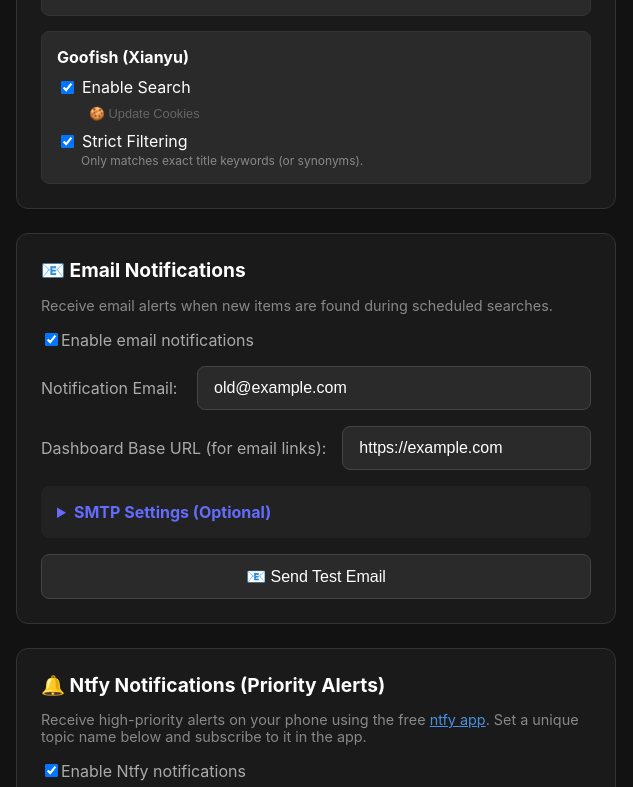
Test case: notification settings saving › shows rejected saves and does not send a test using old settings
This screenshot has width=633, height=787.
(page scrolled)
Replace the text in the field showing "old@example.com" next to "Notification Email:" with "new@example.com". click: (394, 388)
box: [197,366,591,410]
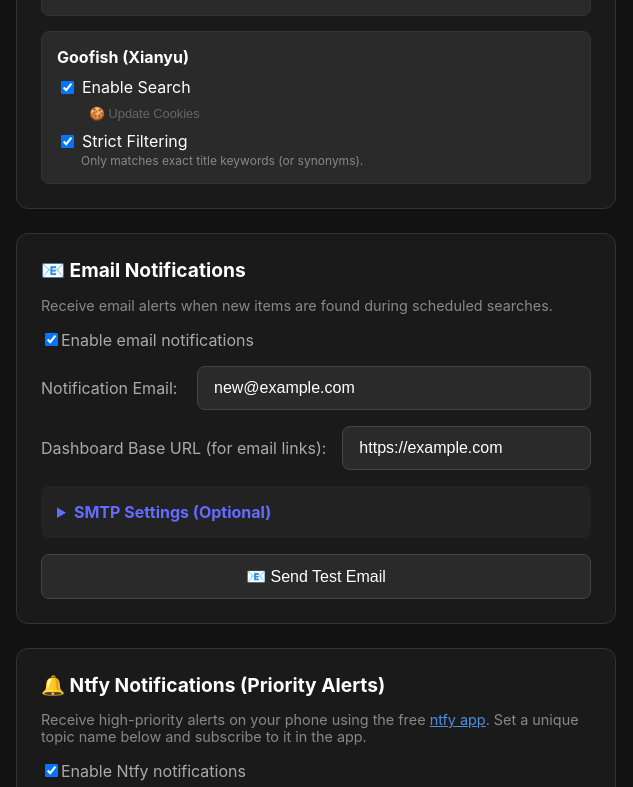
Click the button "📧 Send Test Email". click: click(316, 576)
box: [41,554,591,599]
(page scrolled)
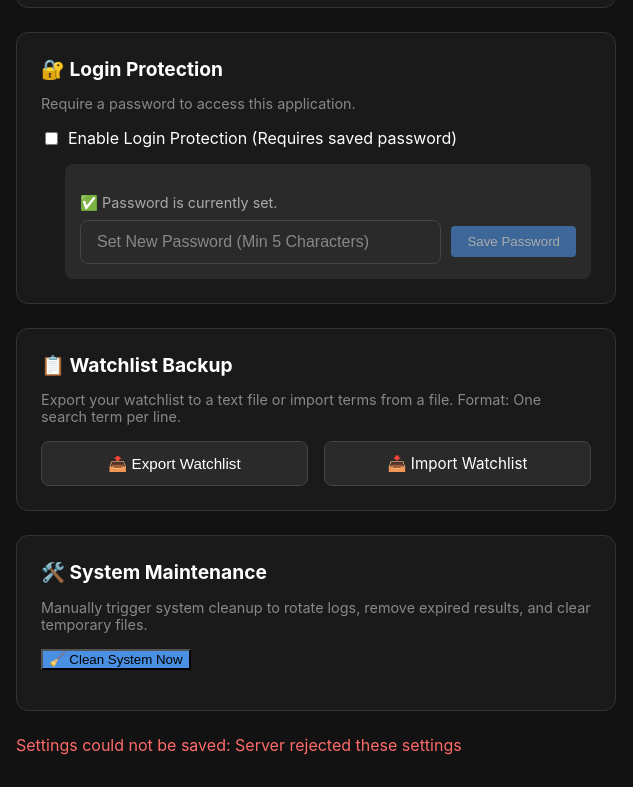
Expected: the message shows "Server rejected these settings", [235,735,462,755]
